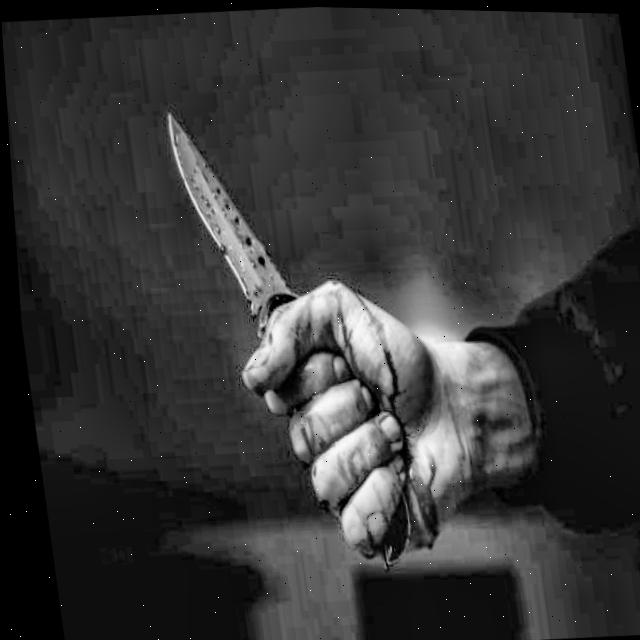pisau: (108, 102, 452, 578)
